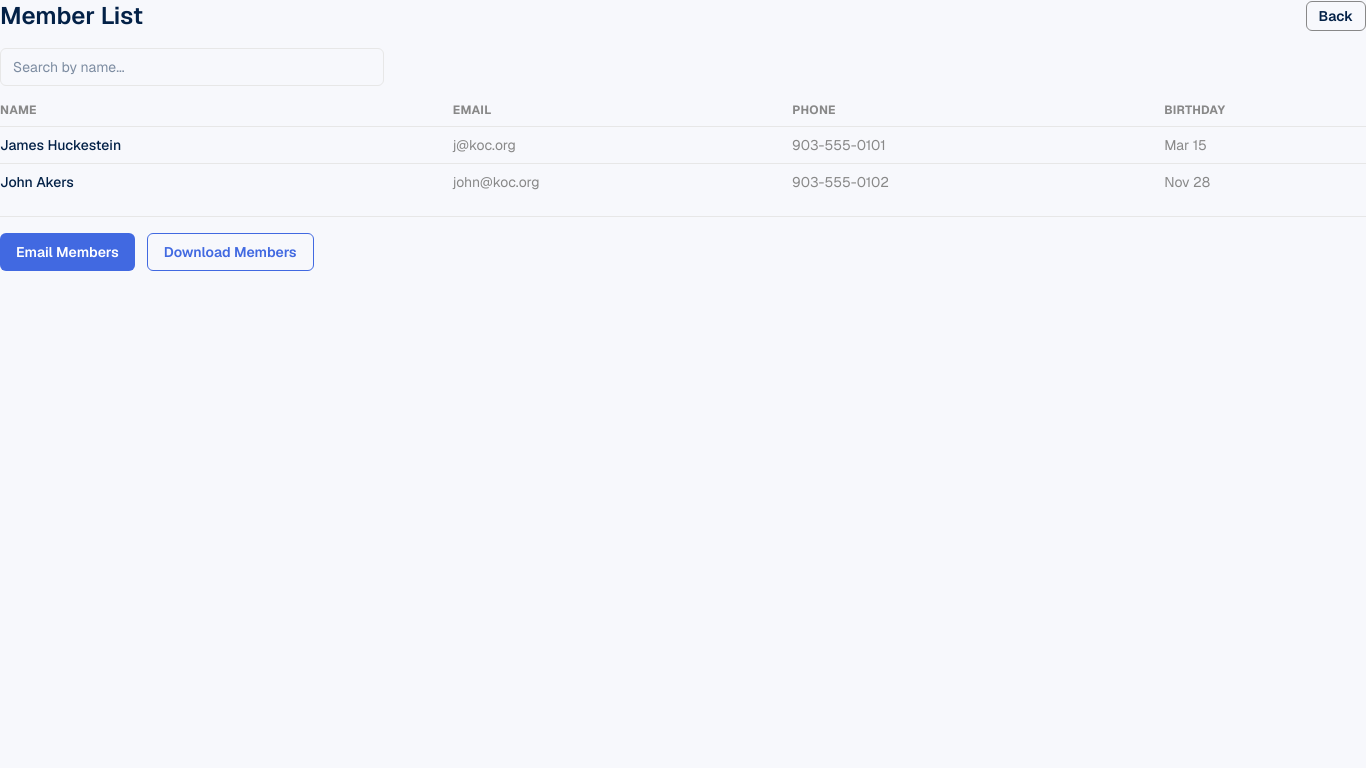
it: MemberList › shows success modal after sending email to all members
Step 1. Click the button "Email Members" → {"x": 67, "y": 252}, box [0, 233, 135, 271]
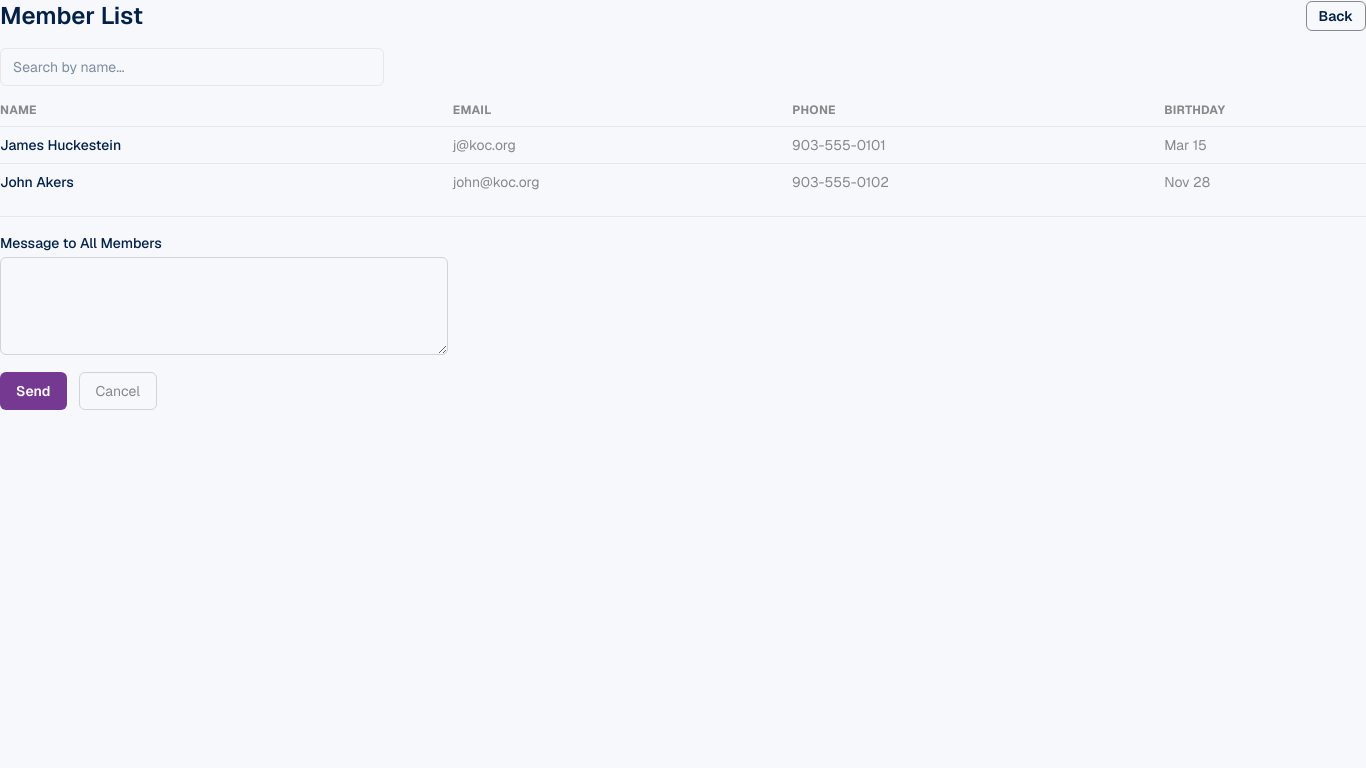
Step 2. Click the button "Send" → {"x": 33, "y": 391}, box [0, 372, 66, 410]
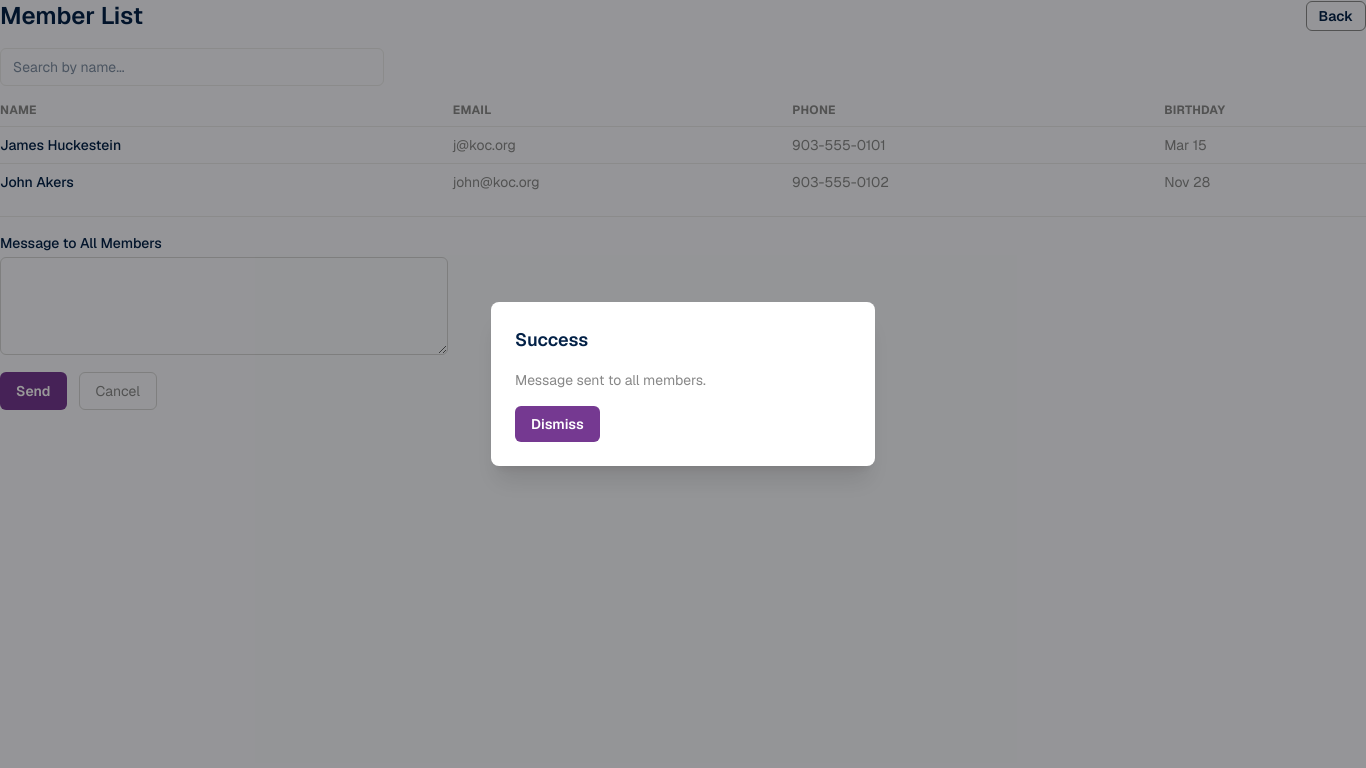
Check: the heading "Success" is shown, box [515, 328, 588, 351]
Check: the text "Message sent to all members." is shown, box [515, 371, 706, 389]
